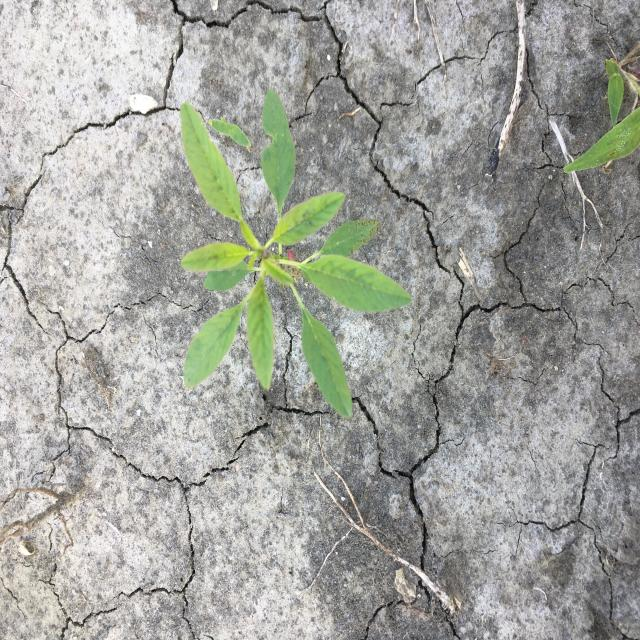Waterhemp: (179, 86, 414, 420)
